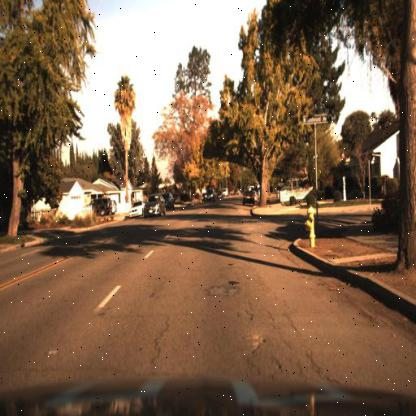car: (144, 192, 166, 221), (85, 196, 112, 218), (160, 189, 176, 216), (201, 184, 219, 204), (241, 187, 255, 208), (164, 188, 174, 214), (204, 186, 218, 204)
